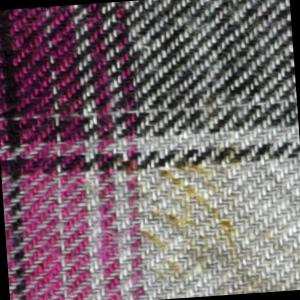Oil Stain: (107, 129, 300, 300)
